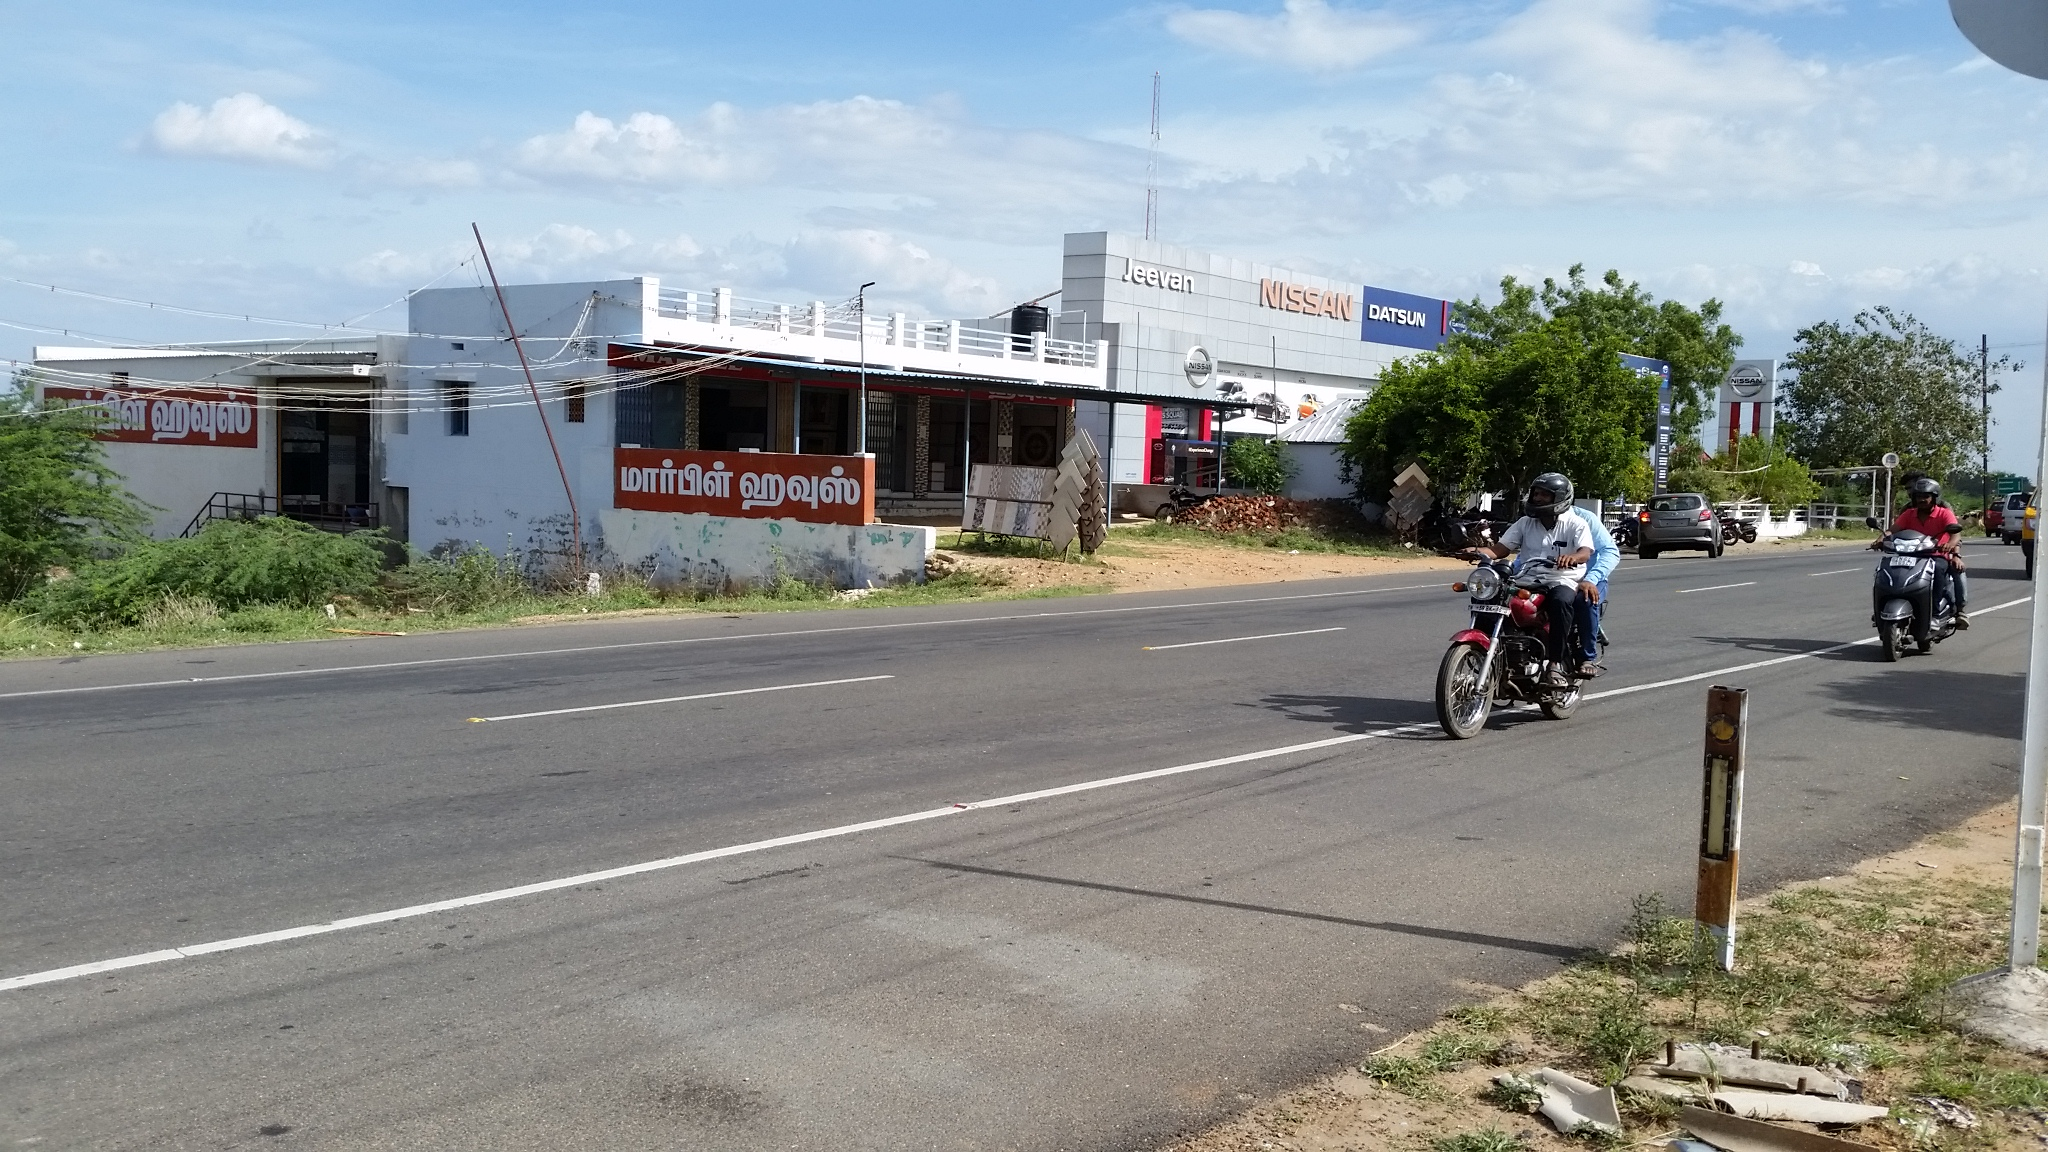biker: (1394, 432, 1651, 762), (1837, 437, 1996, 674)
helmet: (1518, 463, 1577, 525), (1909, 479, 1945, 520)
nohelmet: (1899, 466, 1920, 499)
